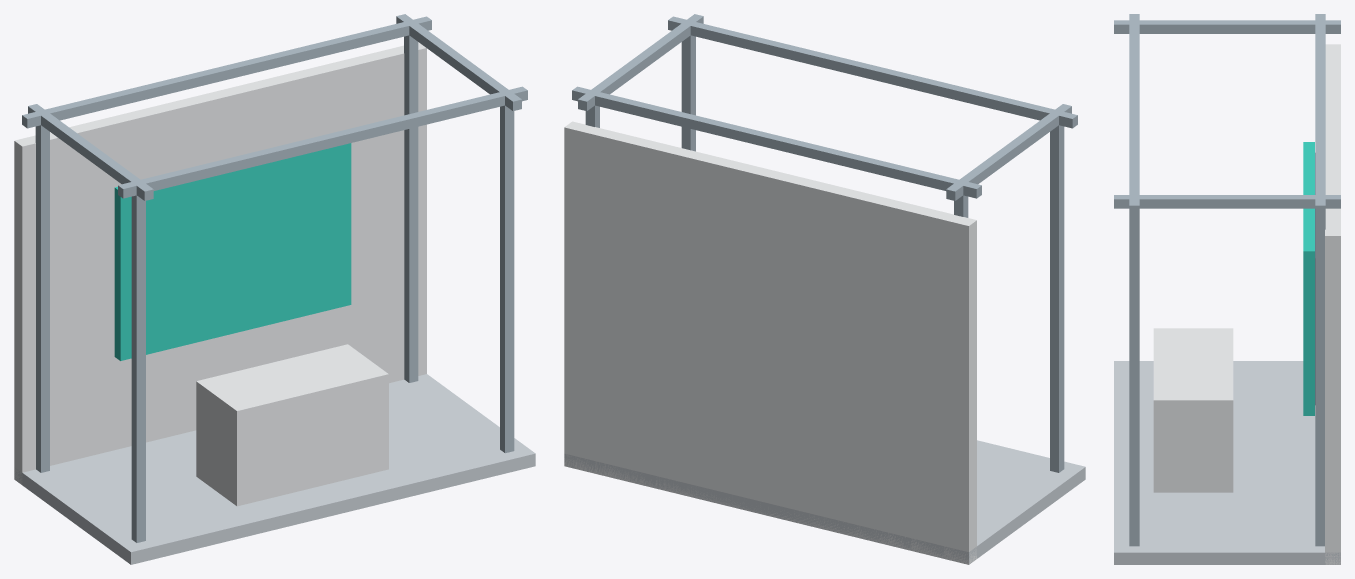
3 views of the same model, side by side, from view 1: azimuth 30°, elevation 25°; view 2: azimuth 150°, elevation 25°; view 3: azimuth 270°, elevation 25° (orthographic). The views are drawn at different scales.
Parts seen in each view (by area): view 1: Exhibition Booth Concept; view 2: Exhibition Booth Concept; view 3: Exhibition Booth Concept.
Boxes of the visible parts, bbox=[...] form: Exhibition Booth Concept: bbox=[14, 14, 535, 564]; Exhibition Booth Concept: bbox=[564, 14, 1085, 564]; Exhibition Booth Concept: bbox=[1114, 14, 1340, 564].
Bounding box in the file's own units: 4 × 3.49 × 2.
